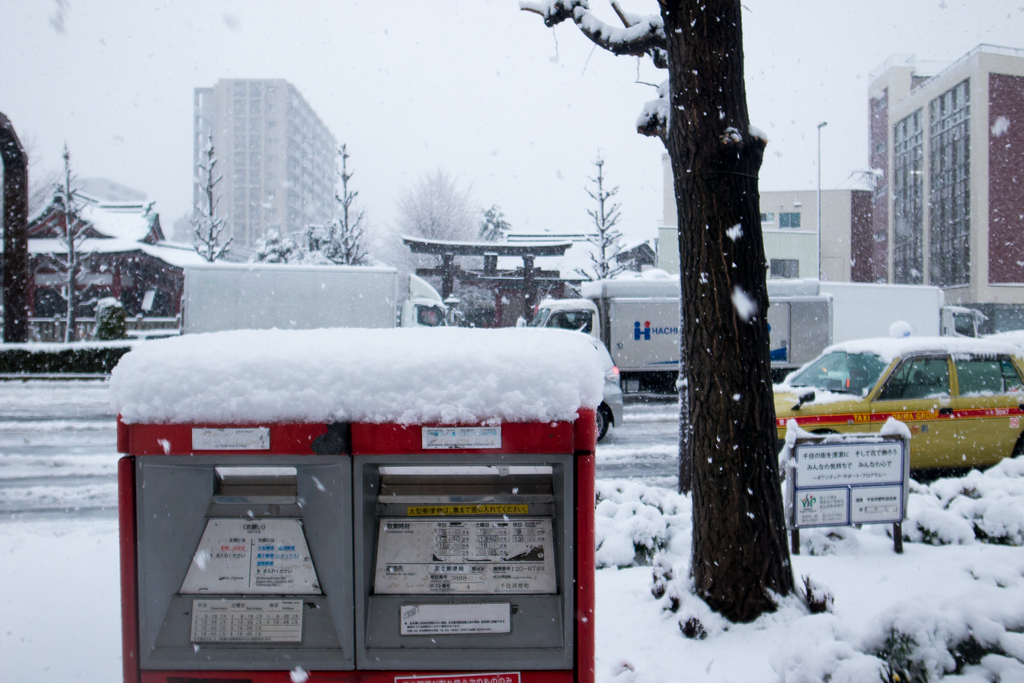Car: (787, 333, 1023, 476), (576, 325, 623, 448)
